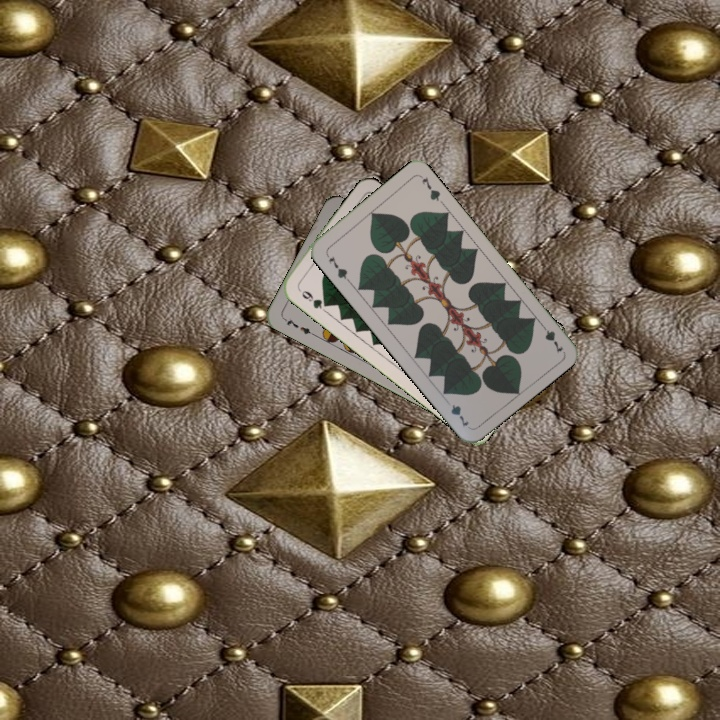E7: (279, 314, 317, 339)
G7: (536, 318, 566, 356), (322, 250, 352, 284)
G9: (294, 284, 331, 311)
